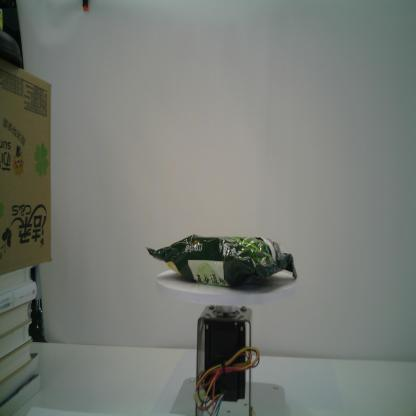Instant Noodles: (144, 231, 298, 290)
